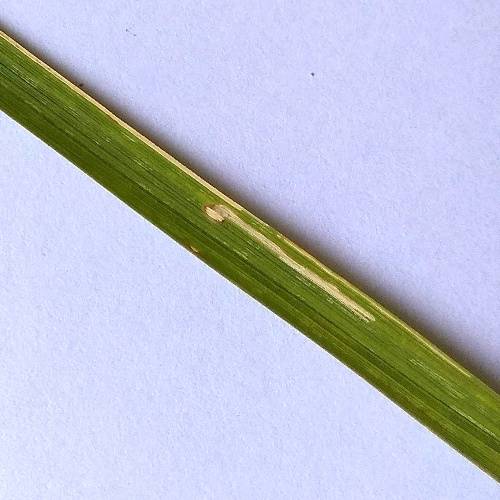Busuk Leher: (58, 65, 91, 98), (202, 196, 233, 230), (132, 124, 164, 153), (3, 29, 34, 57), (313, 275, 344, 302), (348, 294, 374, 325), (278, 249, 305, 278), (251, 223, 277, 253), (98, 96, 124, 125), (183, 237, 208, 263)
